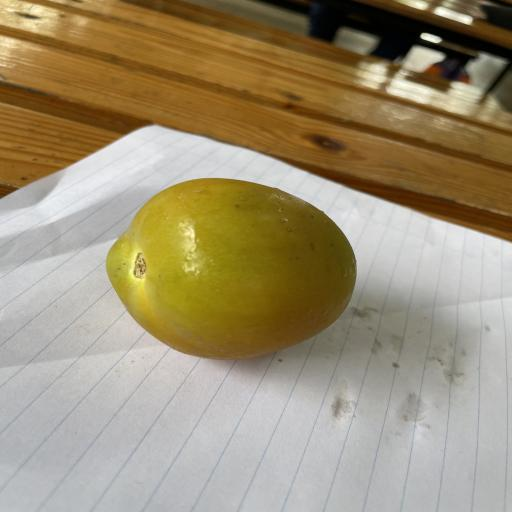unripe: (106, 178, 356, 359)
